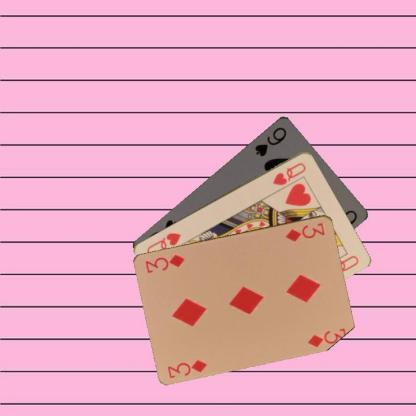3d: (165, 357, 209, 379), (283, 220, 326, 242)
9s: (252, 124, 288, 158)
Qh: (270, 160, 307, 186)
